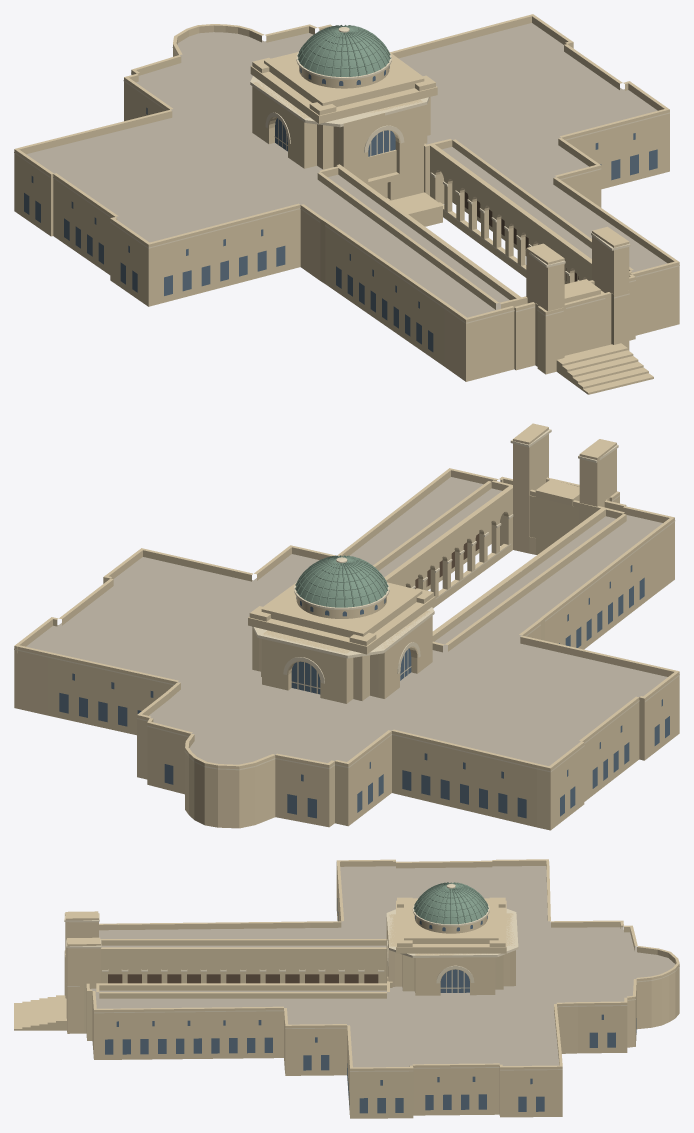
File: canberra-australian-war-memorial.detail.glb
The picture shows the model from 3 angles, top to bottom: view 1: azimuth 30°, elevation 25°; view 2: azimuth 150°, elevation 25°; view 3: azimuth 270°, elevation 25°; orthographic projection. The views are drawn at different scales.
Parts seen in each view (by area): view 1: Australian War Memorial; view 2: Australian War Memorial; view 3: Australian War Memorial.
Boxes of the visible parts, x1=… form: Australian War Memorial: x1=14, y1=14, x2=679, y2=394; Australian War Memorial: x1=14, y1=423, x2=679, y2=830; Australian War Memorial: x1=14, y1=859, x2=679, y2=1118.
Bounding box in the file's own units: 100 × 29 × 135.
